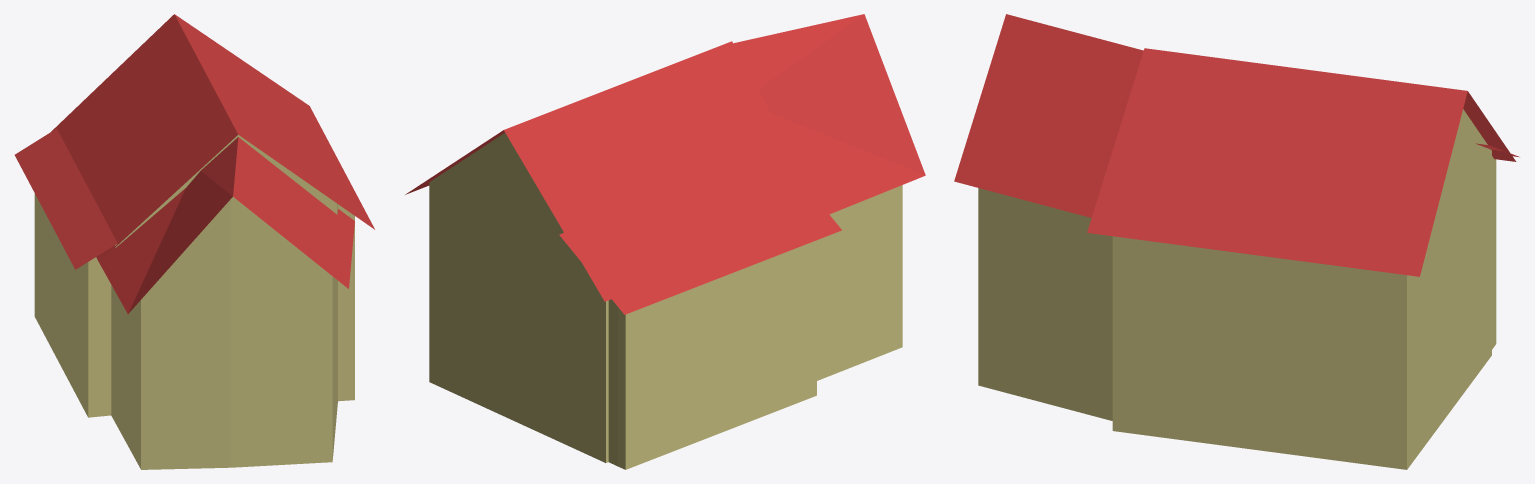
3 views of the same model, side by side, from view 1: azimuth 30°, elevation 25°; view 2: azimuth 150°, elevation 25°; view 3: azimuth 270°, elevation 25° (orthographic). The views are drawn at different scales.
Size of the model in its own units: 17.31 by 21.8 by 13.77.
